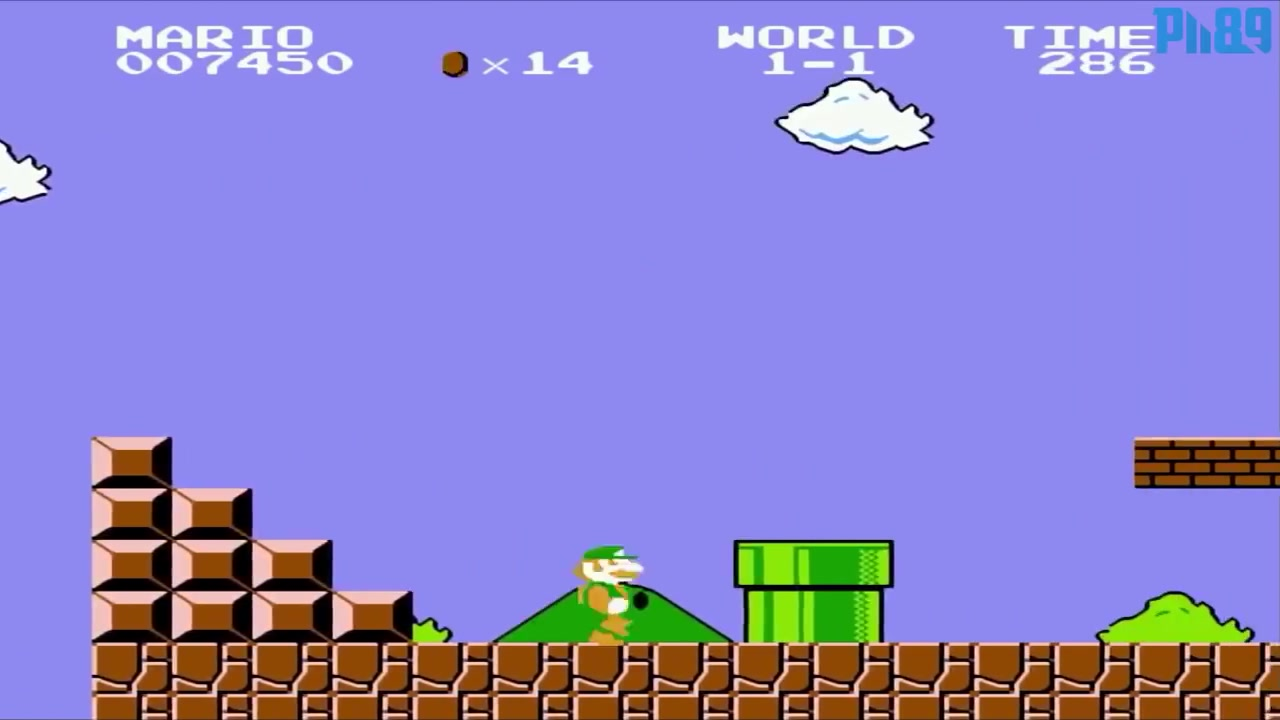mario: (571, 540, 659, 640)
